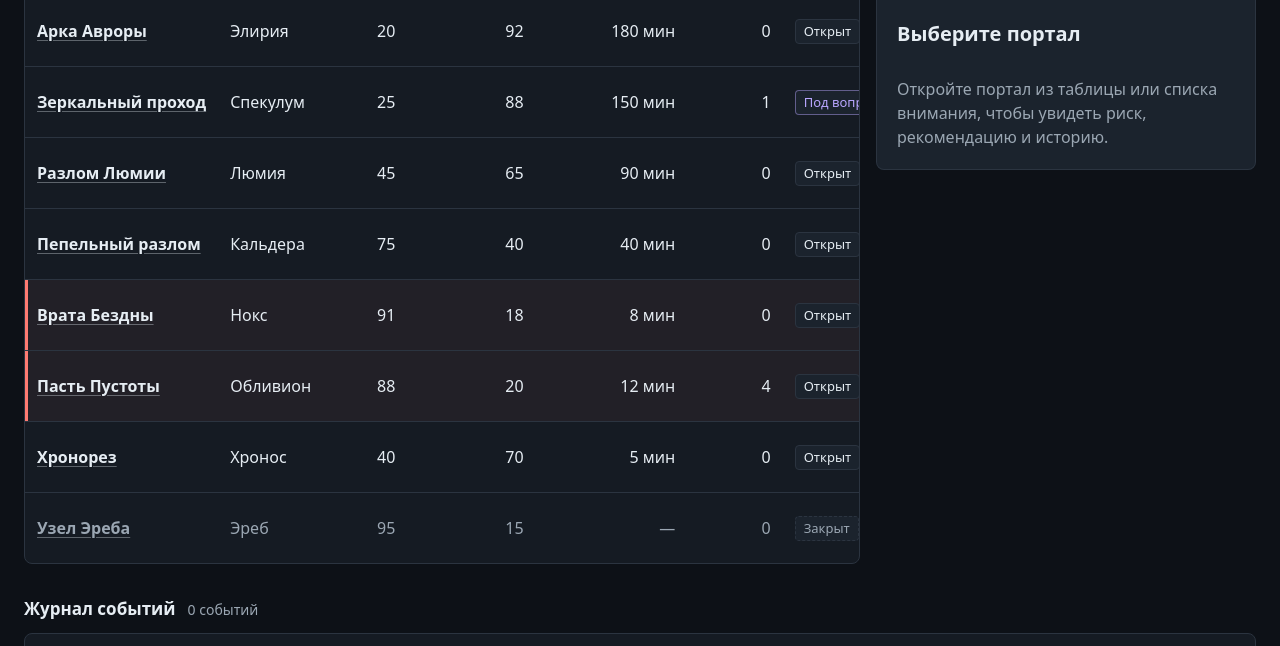
Test: Журнал событий › прошлые записи показывают состояние на момент события, а не текущее
(page scrolled)
Click the button "Врата Бездны": (95, 315) [37,303,154,327]
(page scrolled)
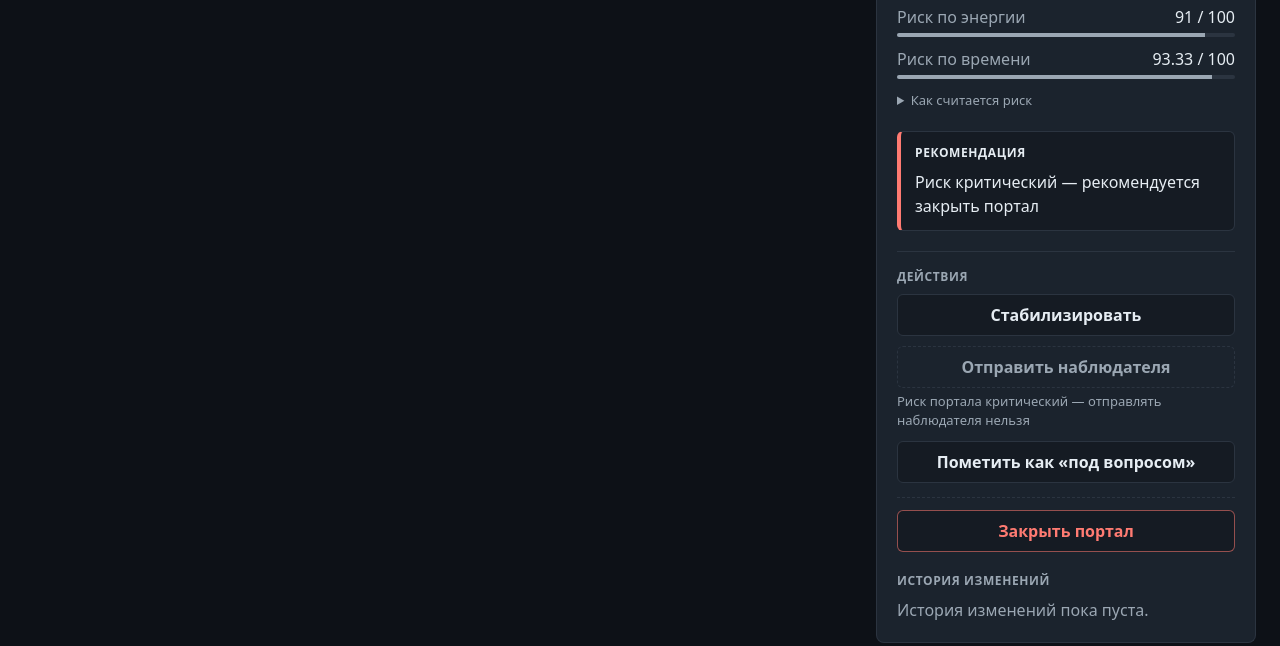
Click the button "Стабилизировать": (1066, 315) [897,294,1235,336]
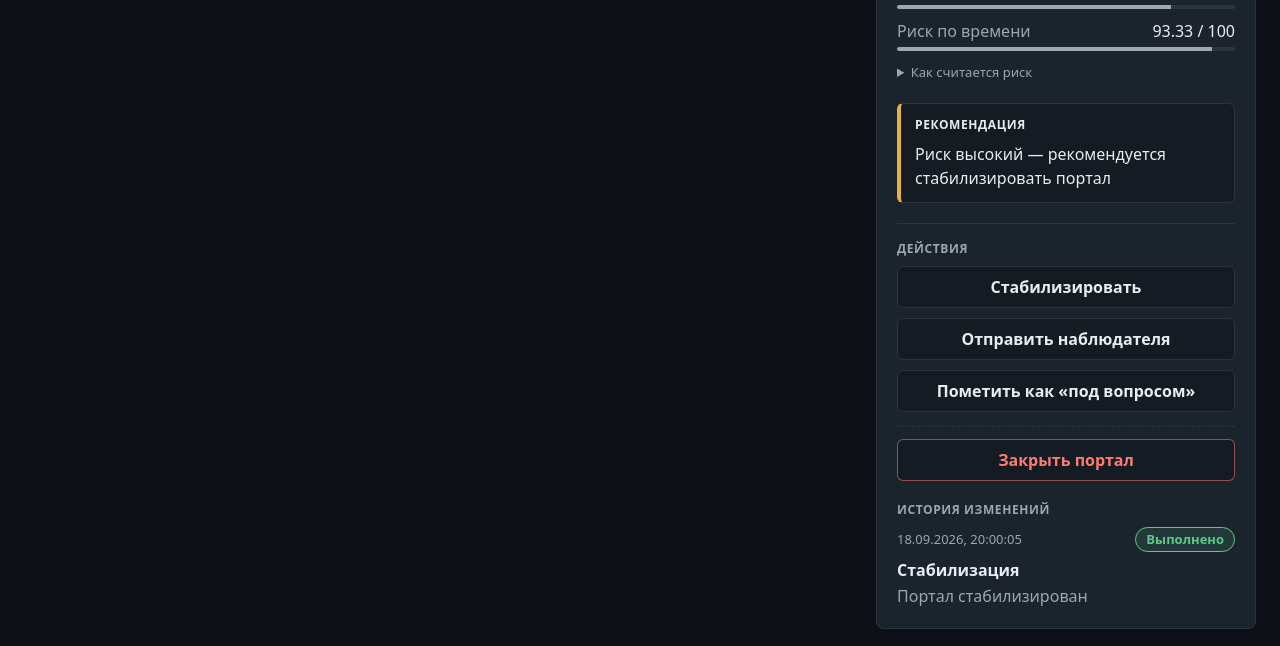
Click the button "Стабилизировать": (1066, 287) [897,266,1235,308]
(page scrolled)
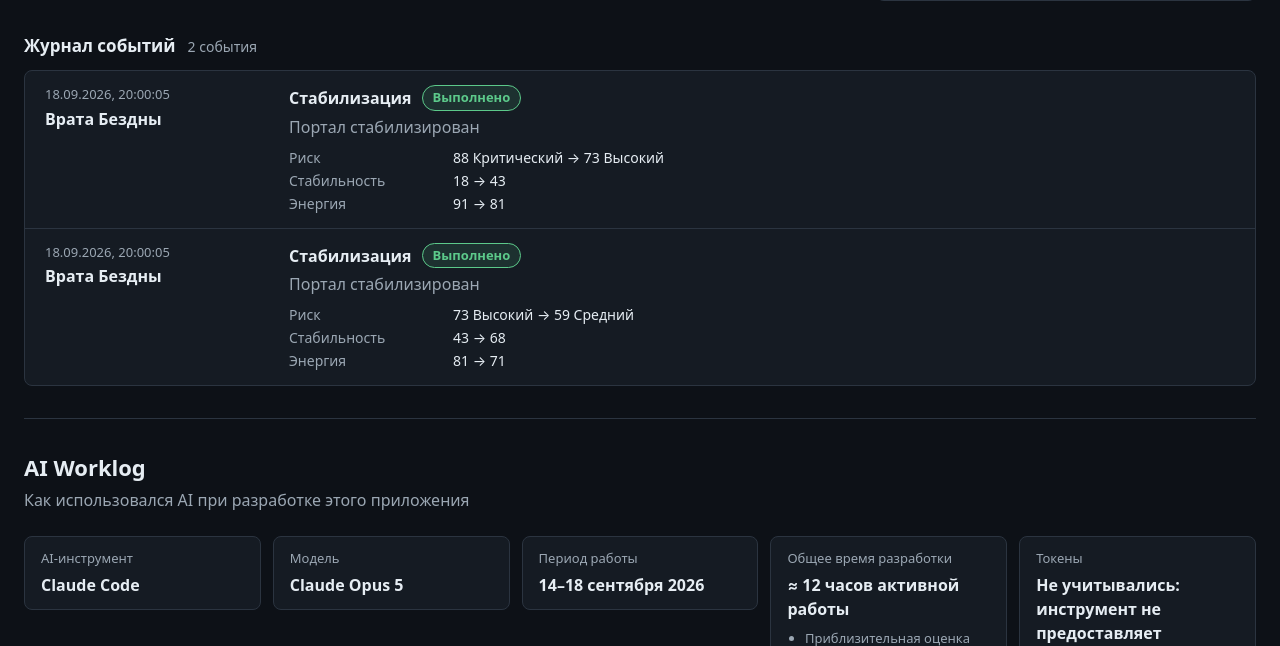
Expected: the text "88 Критический → 73 Высокий" is shown, [453,148,664,167]
Expected: the text "73 Высокий → 59 Средний" is shown, [453,305,634,324]
